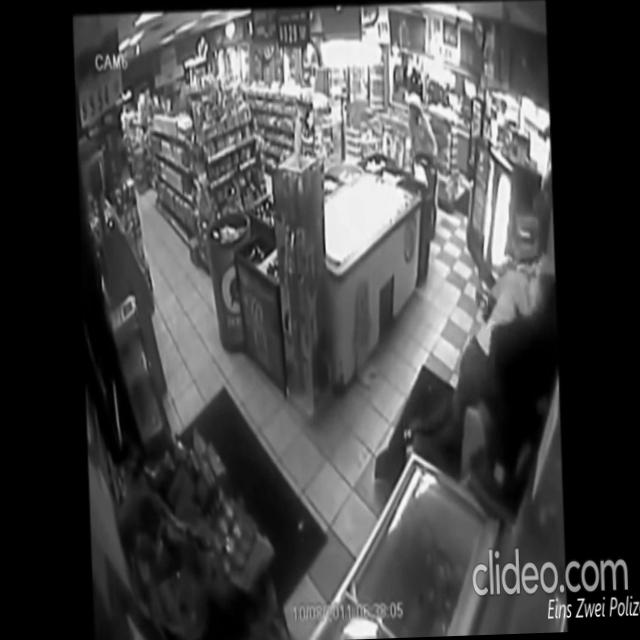person: (398, 243, 561, 482), (454, 264, 564, 489), (402, 89, 444, 239)
